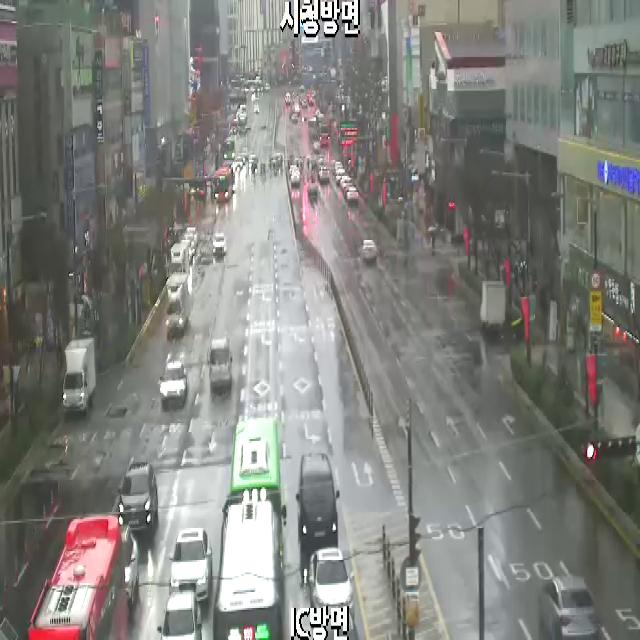Bus: (27, 515, 127, 640), (213, 501, 283, 640), (230, 417, 287, 556), (213, 166, 232, 203), (224, 137, 235, 159)
Car: (296, 453, 340, 548), (539, 575, 598, 640), (309, 549, 355, 619), (169, 528, 212, 602), (118, 461, 158, 531), (157, 590, 202, 640), (120, 526, 139, 612), (316, 604, 360, 640), (208, 336, 233, 389), (160, 361, 187, 403), (361, 240, 377, 263), (180, 240, 193, 263), (213, 233, 227, 254), (184, 234, 196, 256), (186, 228, 198, 246), (307, 182, 318, 198), (319, 166, 329, 182), (347, 187, 359, 200), (341, 177, 352, 190), (336, 170, 345, 183), (236, 157, 243, 171), (291, 172, 299, 184), (334, 162, 343, 171)
Truck: (63, 337, 95, 413), (166, 274, 189, 336), (480, 281, 506, 331), (171, 243, 189, 277)
